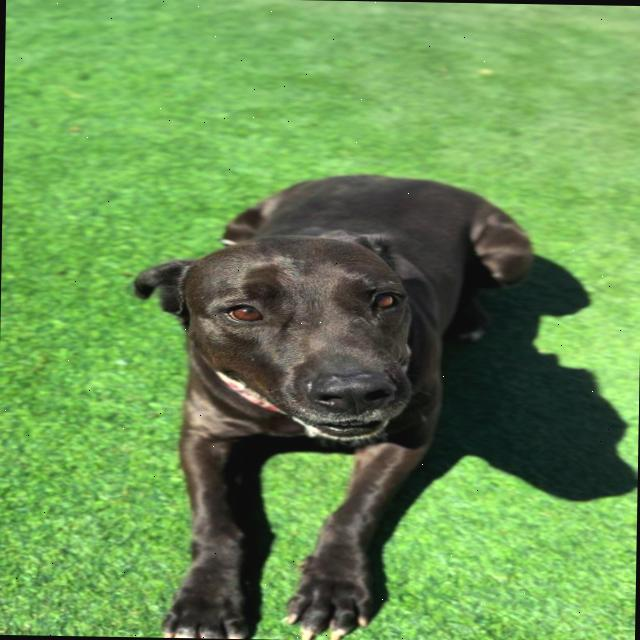labrador_retriever_dog: (115, 218, 453, 462)
